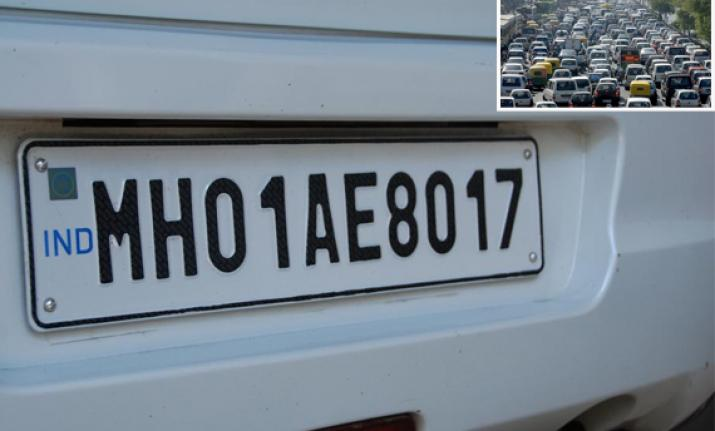numberplate: (18, 133, 544, 332)
